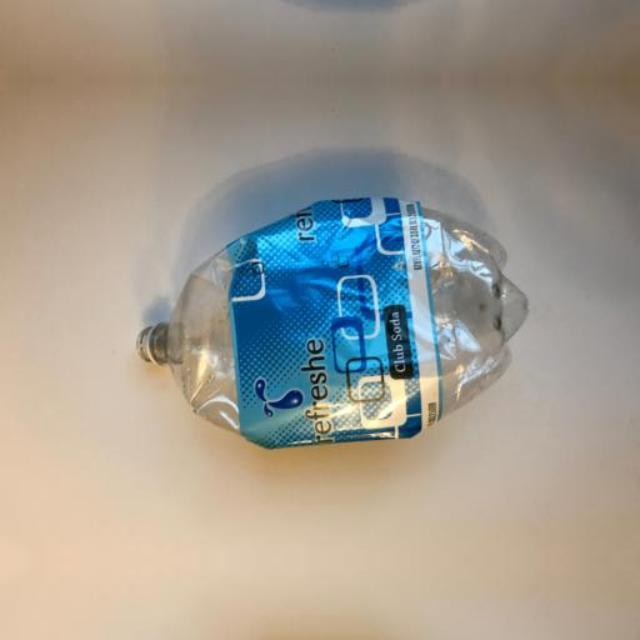Plastic: (110, 209, 550, 466)
